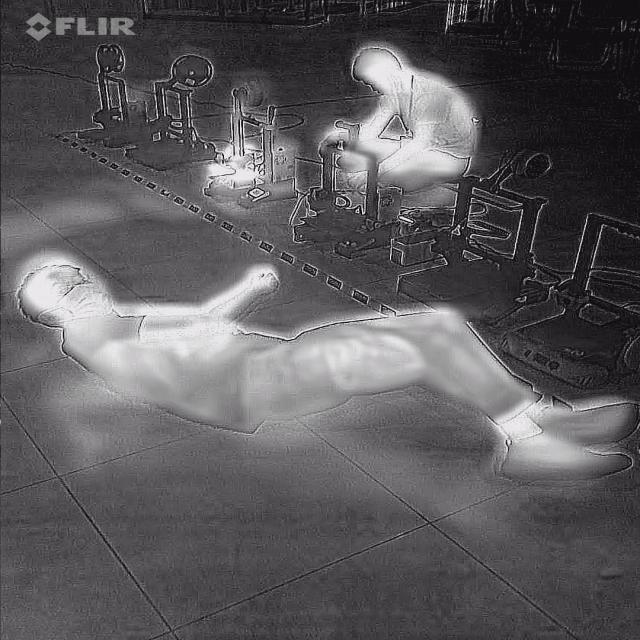Victim: (10, 254, 636, 488), (322, 44, 500, 200)
